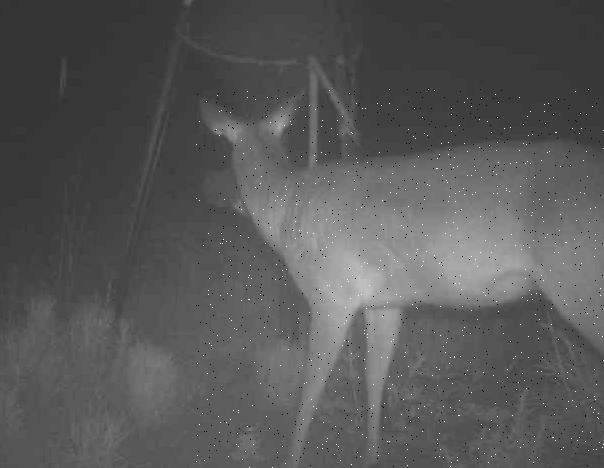Deer: (196, 89, 604, 468)
